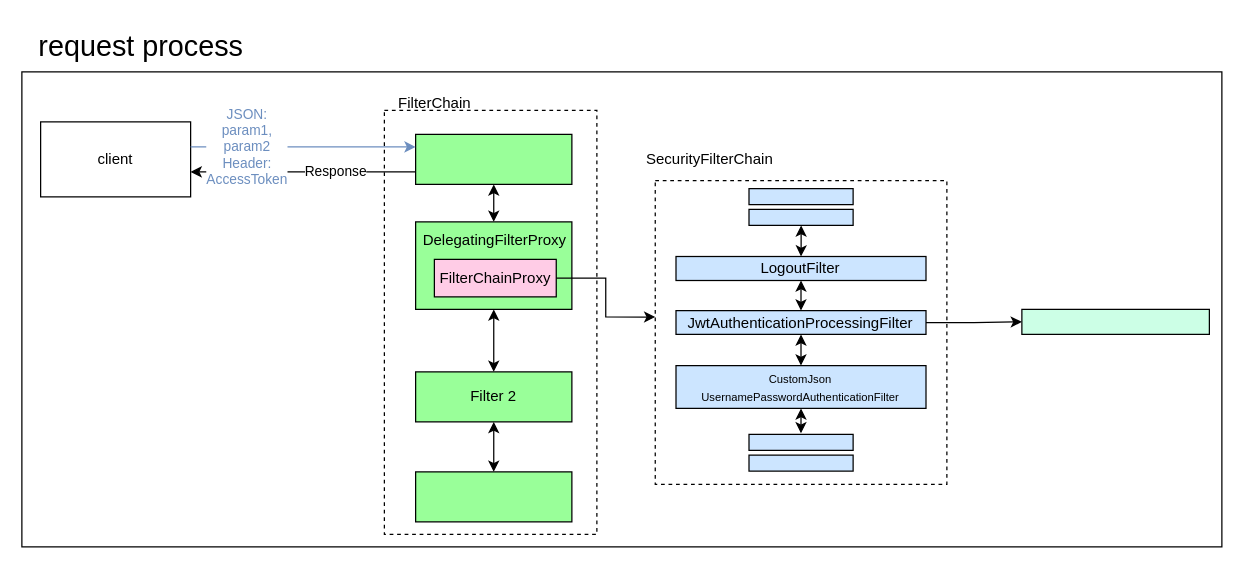
This 1244x569 diagram has some shape labels left out. Here are the shapes that lost their labels. From the top down, the centre of each, then its label:
point (493, 158): Filter 0
point (1115, 321): JwtService
point (493, 496): Servlet
